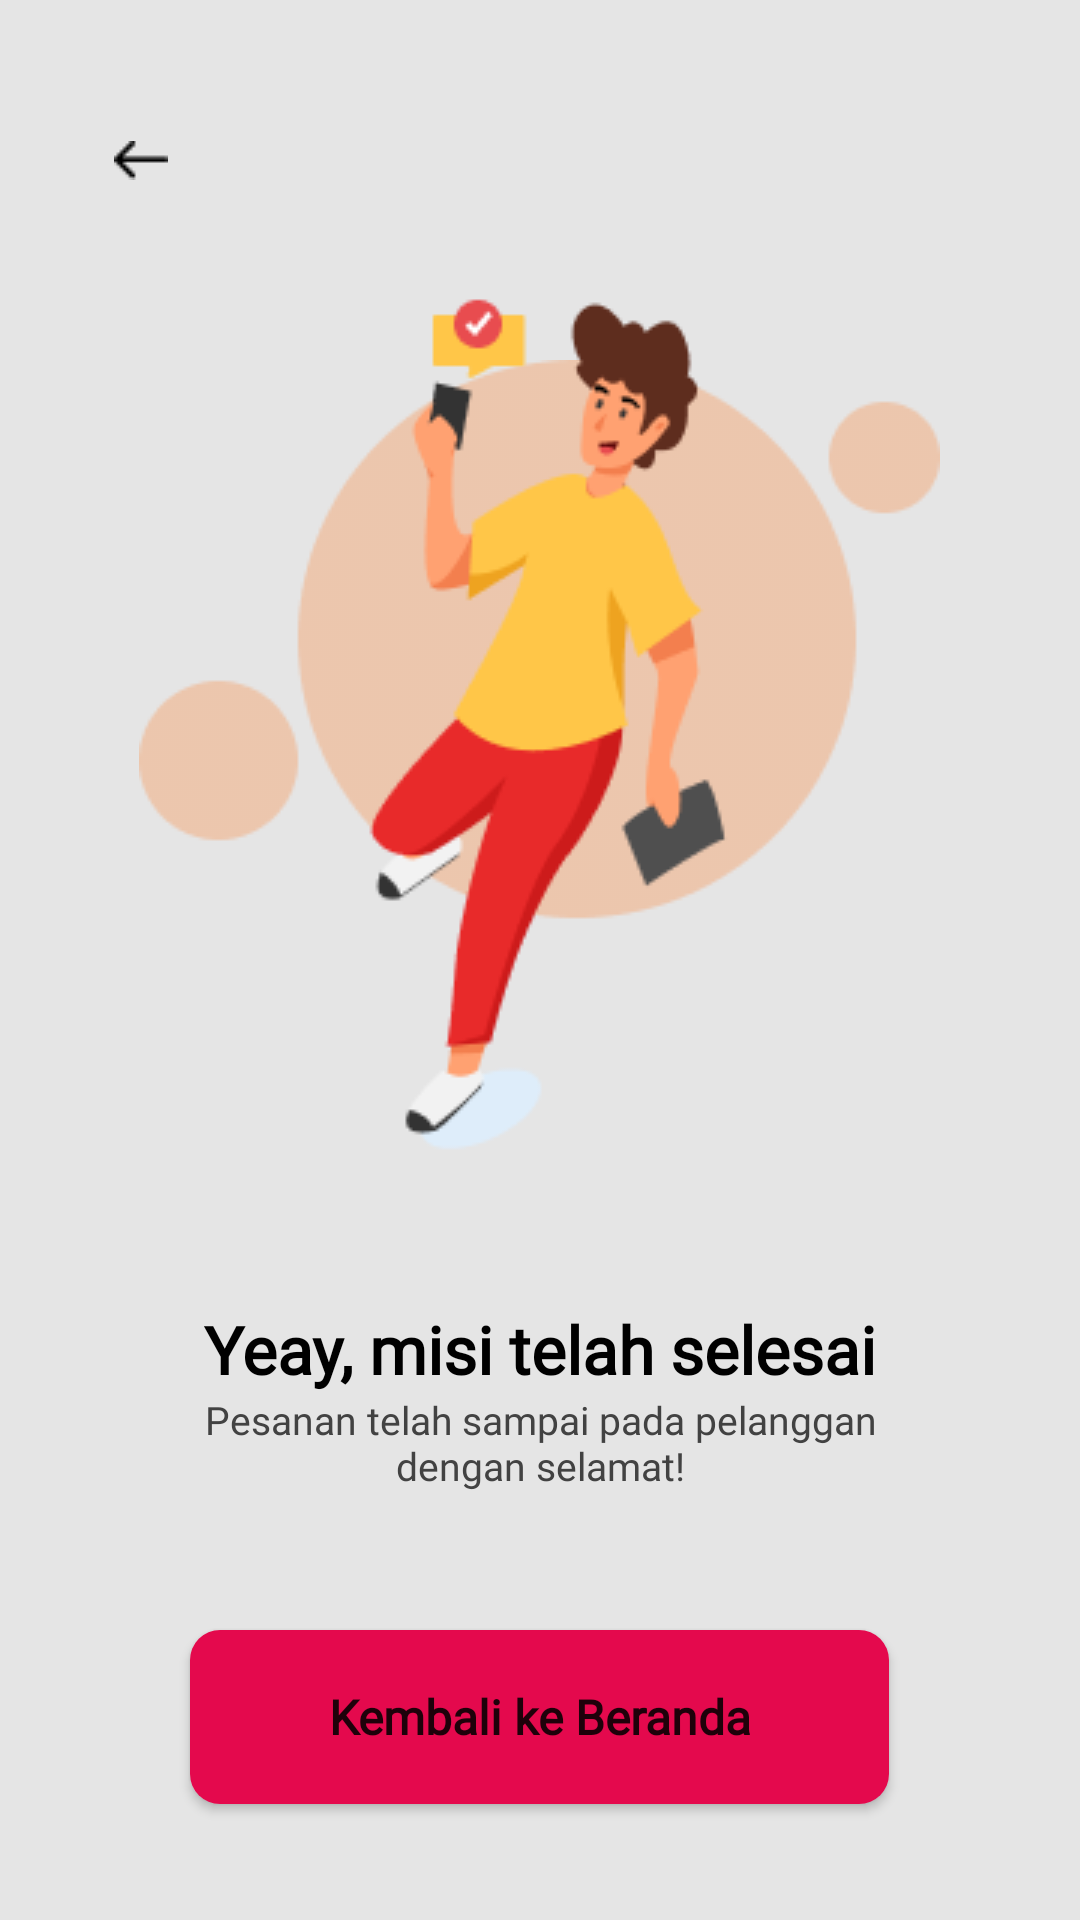

Locate icon controls on the screen. Image size 1080 × 1920, boxes as (x1, y1, x2, y2).
back: (114, 141, 168, 180)
